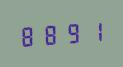eight: (39, 21, 59, 47), (18, 23, 38, 48)
nine: (60, 20, 80, 45)
one: (81, 18, 101, 44)
